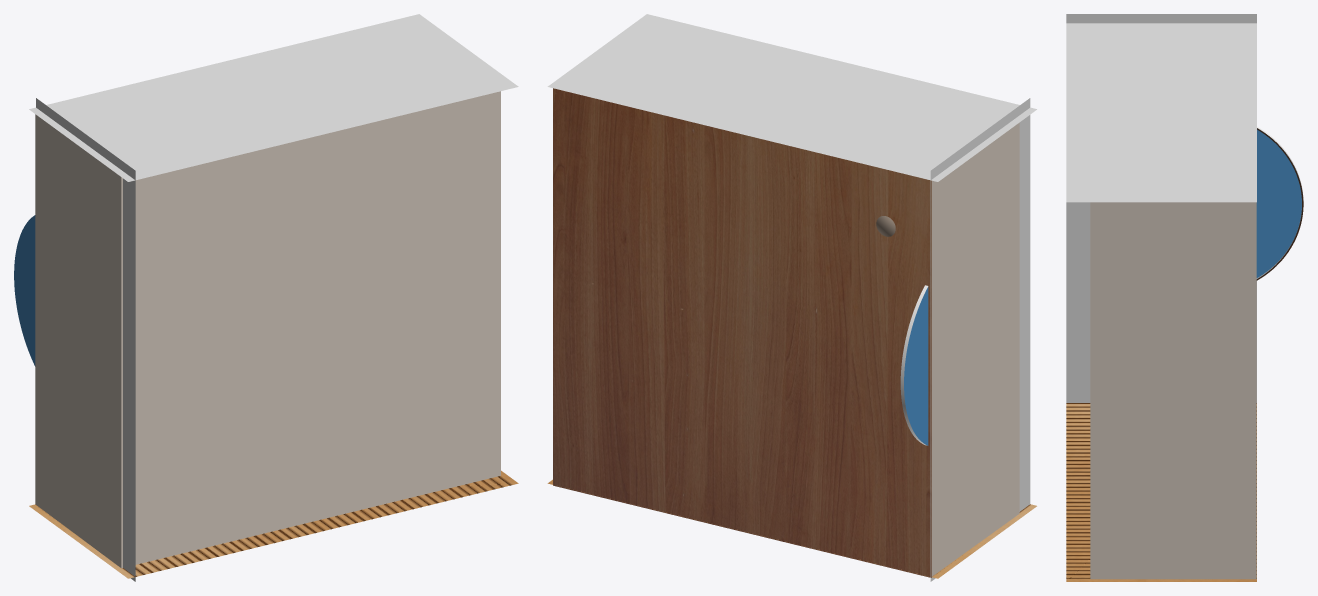
Rendered from LOBBY-LINDO 2.fbx.
The picture shows the model from 3 angles, left to right: view 1: azimuth 30°, elevation 25°; view 2: azimuth 150°, elevation 25°; view 3: azimuth 270°, elevation 25°; orthographic projection. The views are drawn at different scales.
Visible parts, largest first — view 1: house, Plane, Plane.002, Plane.001, circle; view 2: house, Plane, Plane.002, circle, Plane.001; view 3: house, Plane, Plane.002, circle, Plane.001.
Boxes of the visible parts, bbox=[...] form: house: bbox=[35, 91, 500, 568]; Plane: bbox=[29, 14, 518, 181]; Plane.002: bbox=[36, 98, 135, 581]; Plane.001: bbox=[29, 470, 518, 578]; circle: bbox=[14, 215, 35, 366]; house: bbox=[553, 88, 1019, 577]; Plane: bbox=[547, 14, 1036, 181]; Plane.002: bbox=[930, 98, 1030, 581]; circle: bbox=[900, 285, 928, 445]; Plane.001: bbox=[547, 479, 1036, 578]; house: bbox=[1090, 202, 1256, 579]; Plane: bbox=[1066, 23, 1256, 202]; Plane.002: bbox=[1066, 14, 1256, 402]; circle: bbox=[1256, 126, 1303, 280]; Plane.001: bbox=[1066, 403, 1256, 581].
Bounding box in the file's own units: 29.12 × 29.31 × 16.
Materials: 32 (18 with a texture image).
